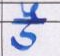ai_matra: (20, 1, 45, 21)
